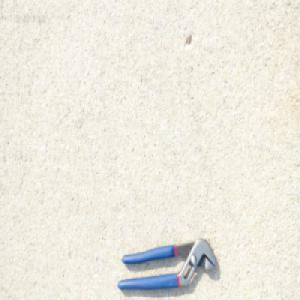Pliers: (117, 236, 218, 288)
